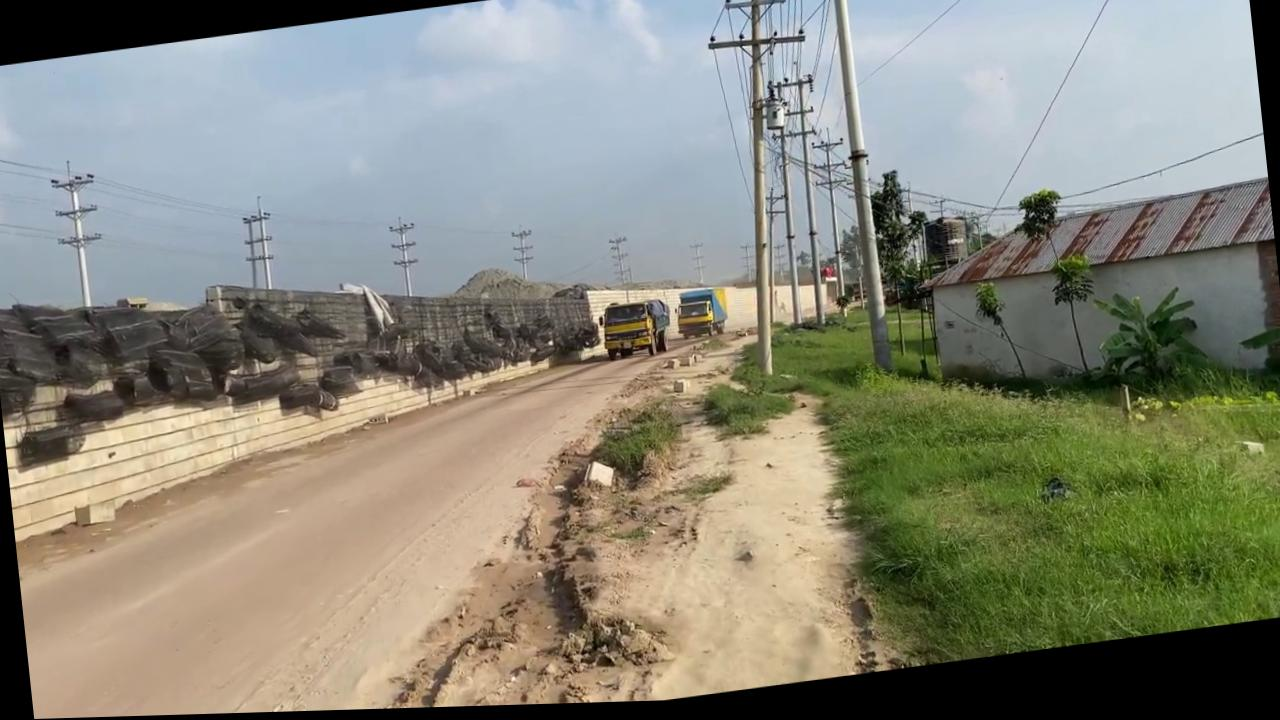Garbage: (0, 227, 602, 461)
Muddy road: (3, 325, 791, 720)
Obstacle: (581, 460, 617, 494)
Pole: (701, 0, 839, 383), (825, 0, 894, 381)
Traffic-sign: (1087, 286, 1209, 403), (1046, 256, 1104, 384), (1010, 192, 1064, 250)
Tree: (598, 298, 674, 365), (672, 289, 729, 344)
